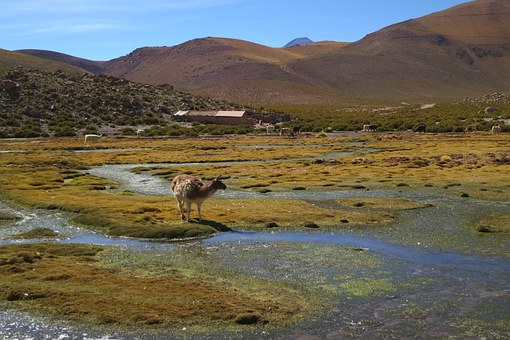alpaca: (170, 172, 227, 223)
